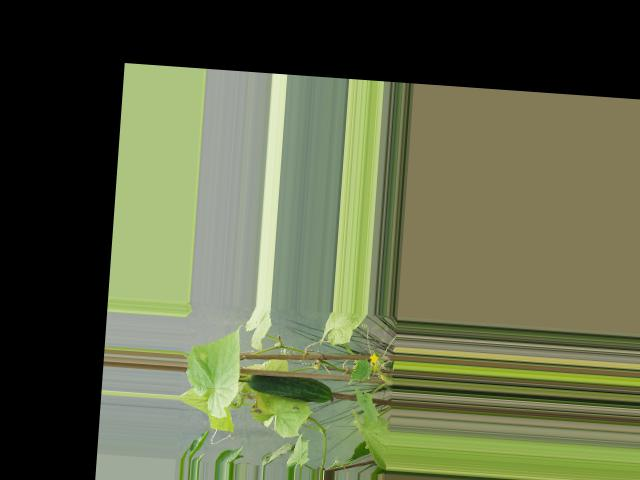cucumber: (247, 373, 334, 404)
